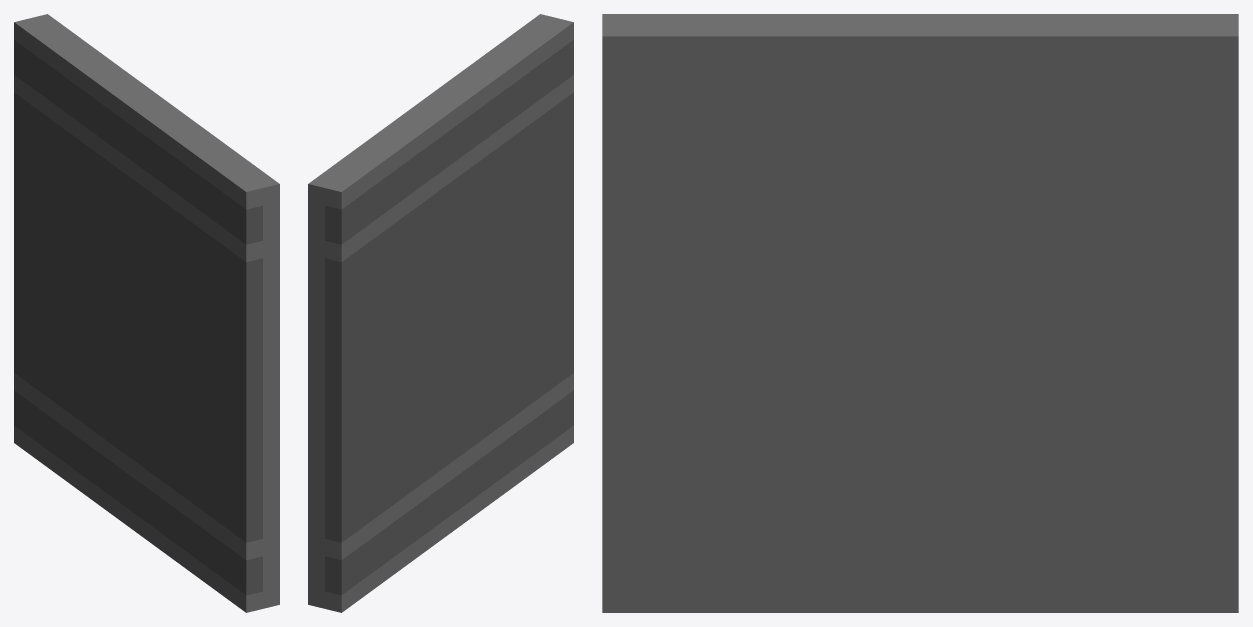
Rendered from Wall2.obj.
3 renders of one model, left to right at view 1: azimuth 30°, elevation 25°; view 2: azimuth 150°, elevation 25°; view 3: azimuth 270°, elevation 25°, orthographic. The views are drawn at different scales.
Size of the model in its own units: 0.2 by 2.4 by 2.4.
Materials: 1 (1 with a texture image).
